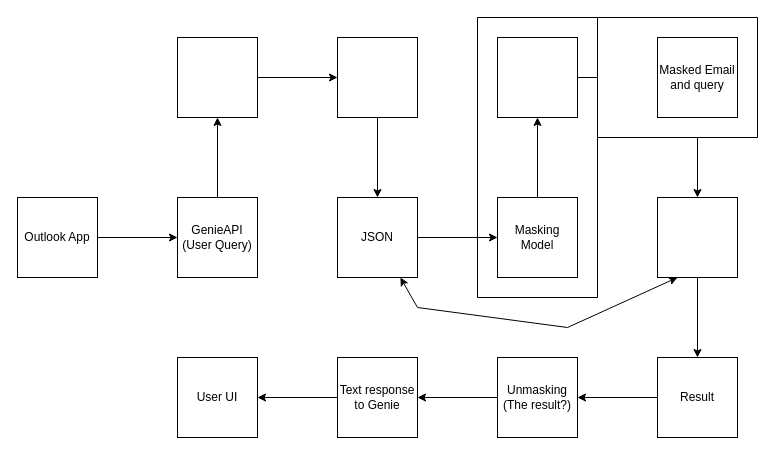
The diagram is 775 pixels wide and 455 high, and some of its shapes have lost their labels. The centre of each missing label's shape, as x and y in pixels:
Custom ML LLM: [537,77]
GPT (For query processing): [697,237]
GPT (Optimize query to Outlook standard): [217,77]
Outlook query: [377,77]
